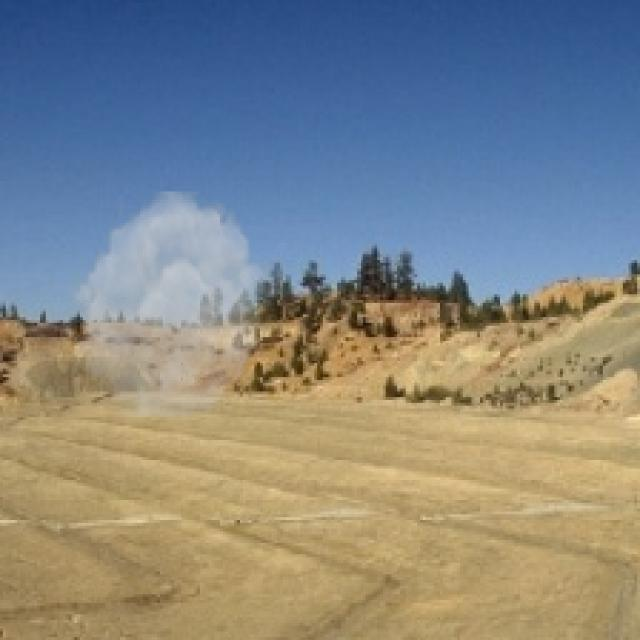Smoke: (66, 192, 274, 418)
